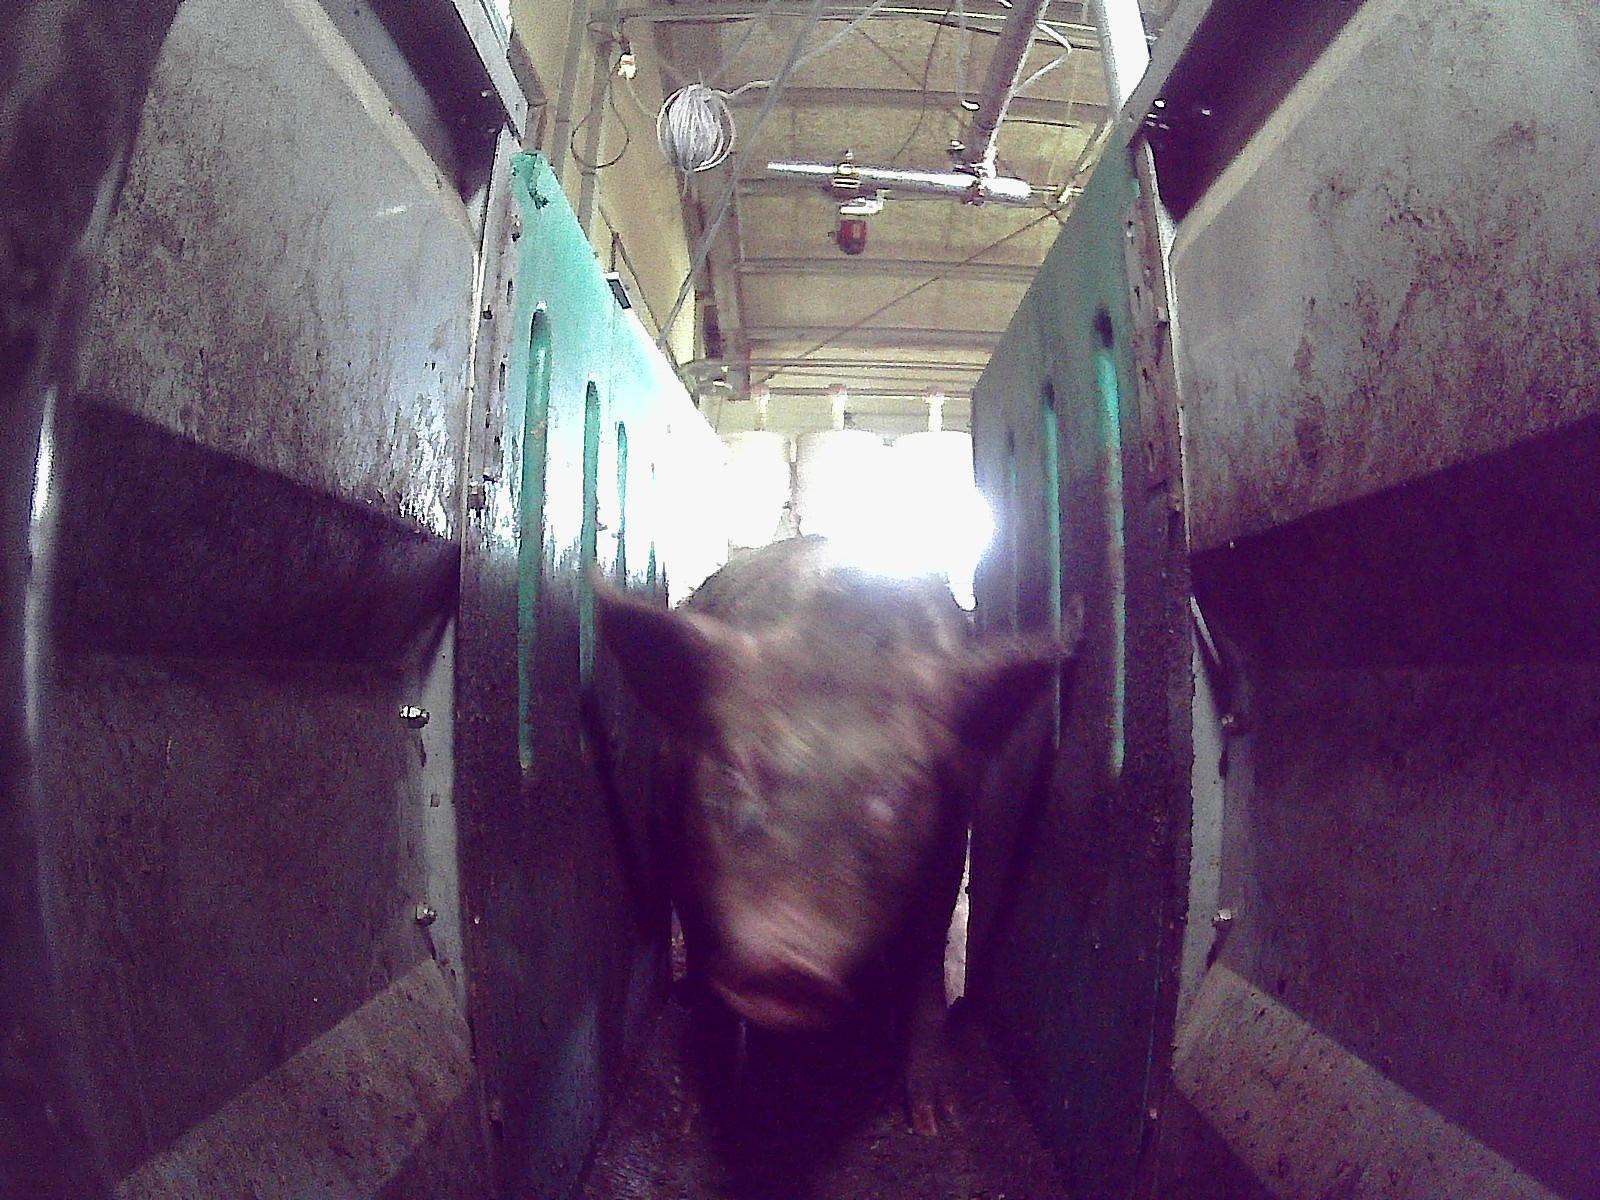Face: (680, 641, 948, 1029)
